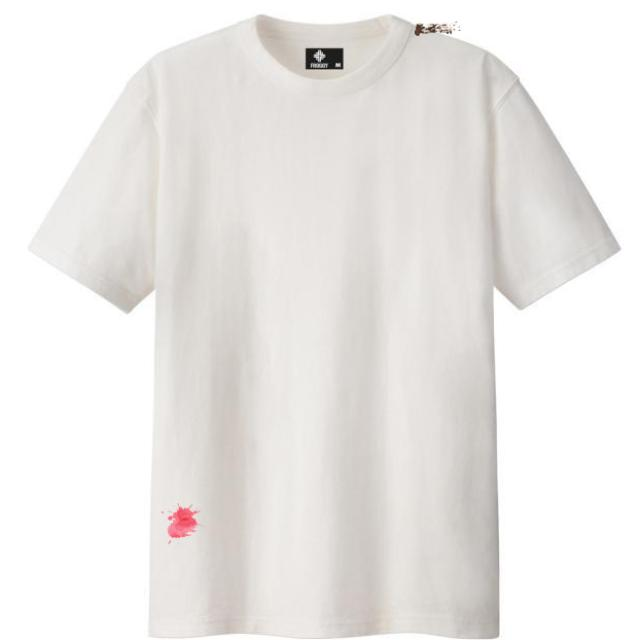stain: (158, 504, 200, 542), (408, 18, 457, 48)
